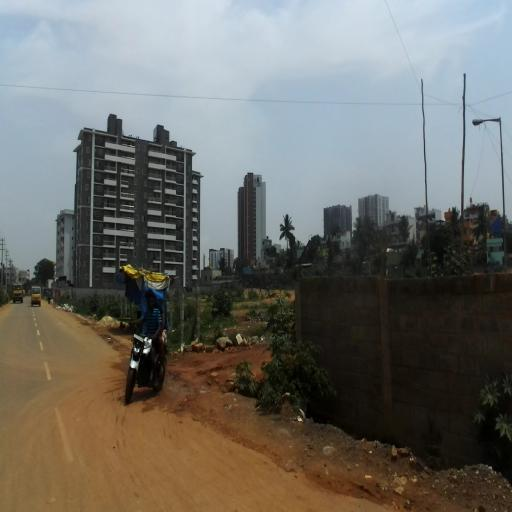street_light_0: (472, 118, 502, 126)
